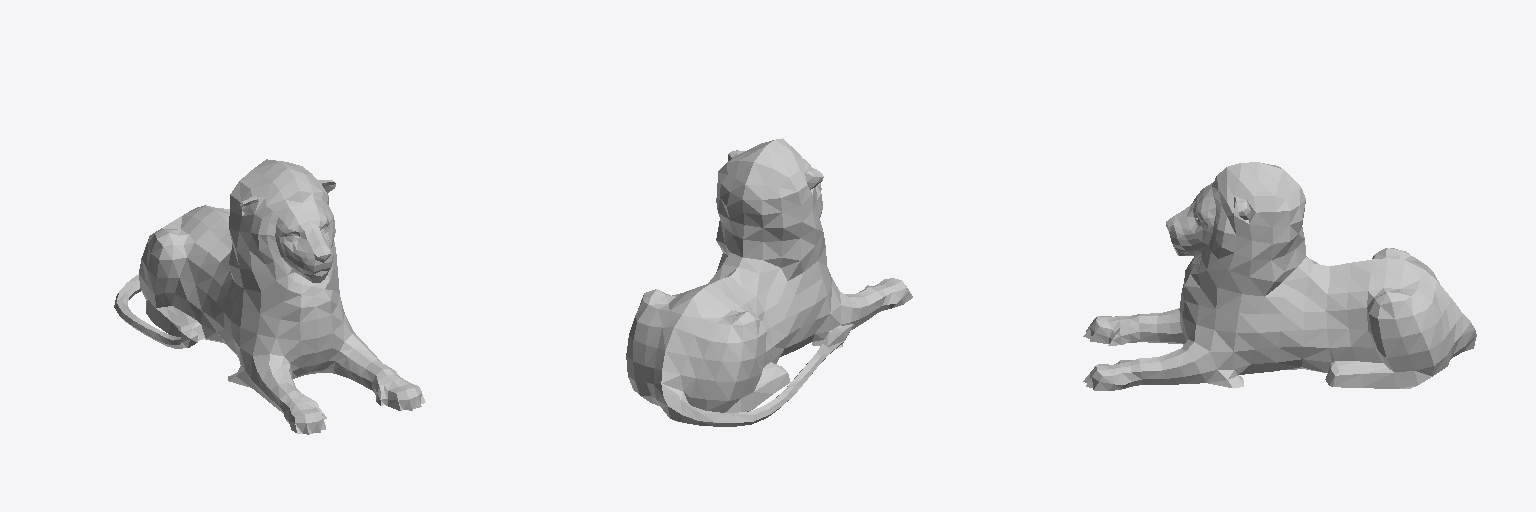
The model's file is lion.obj.
The picture shows the model from 3 angles: view 1: azimuth 30°, elevation 25°; view 2: azimuth 150°, elevation 25°; view 3: azimuth 270°, elevation 25°; orthographic projection.
Parts seen in each view (by area): view 1: LowPoly002; view 2: LowPoly002; view 3: LowPoly002.
Part boxes in pixels (bbox=[...]): LowPoly002: bbox=[114, 159, 425, 434]; LowPoly002: bbox=[626, 138, 912, 426]; LowPoly002: bbox=[1083, 162, 1476, 390].
Size of the model in its own units: 91.56 by 114 by 204.